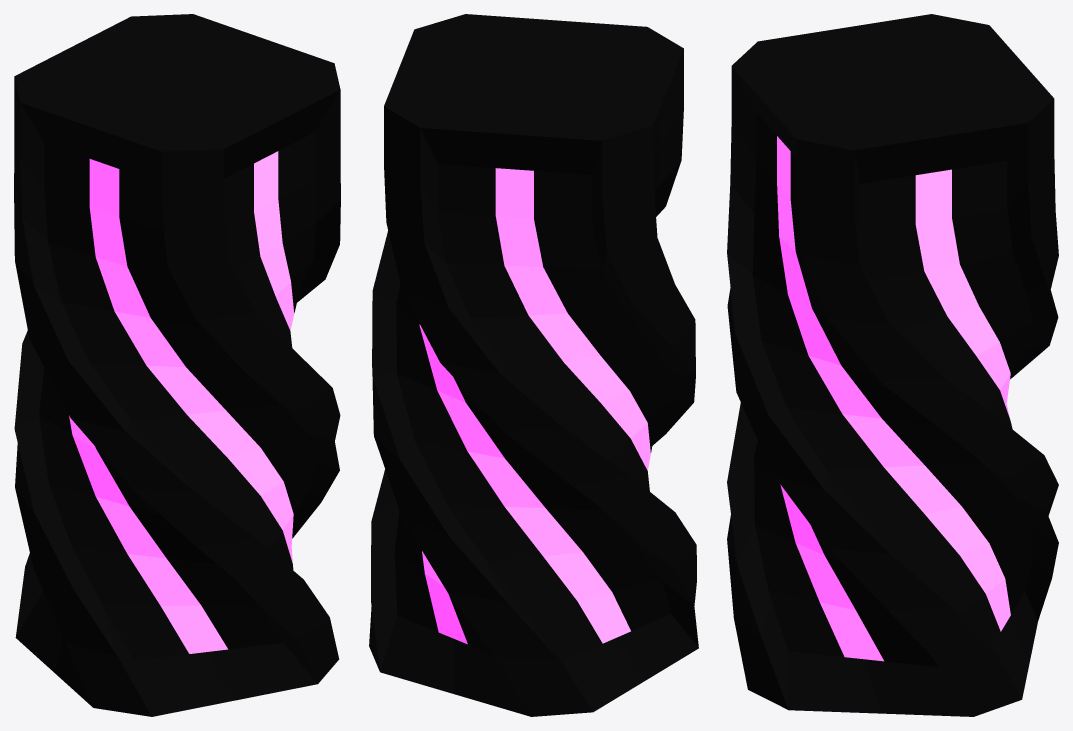
The model's file is curvebuilding.fbx.
The picture shows the model from 3 angles, left to right: view 1: azimuth 30°, elevation 25°; view 2: azimuth 150°, elevation 25°; view 3: azimuth 270°, elevation 25°; orthographic projection.
Parts seen in each view (by area): view 1: Cube.001; view 2: Cube.001; view 3: Cube.001.
Part boxes in pixels (left/top/right/bottom): Cube.001: left=14, top=14, right=340, bottom=716; Cube.001: left=369, top=14, right=698, bottom=716; Cube.001: left=727, top=14, right=1058, bottom=716.
Bounding box in the file's own units: 1891 × 3604 × 1891.
